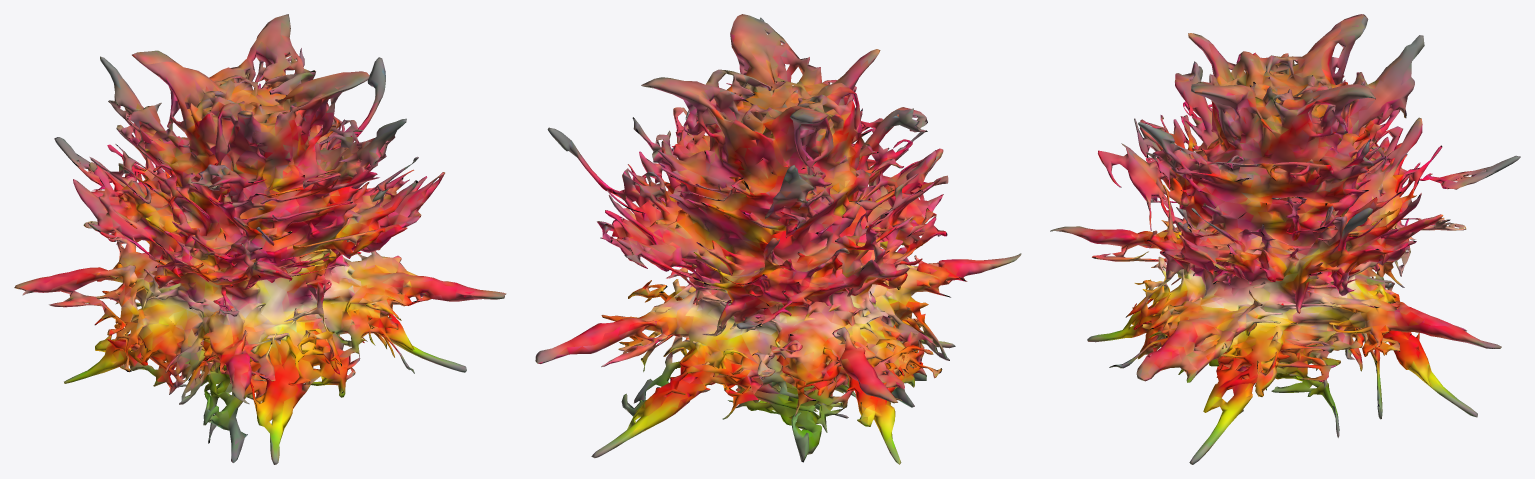
Rendered from fire_flower.glb.
The picture shows the model from 3 angles, left to right: view 1: azimuth 30°, elevation 25°; view 2: azimuth 150°, elevation 25°; view 3: azimuth 270°, elevation 25°; orthographic projection. The views are drawn at different scales.
Visible parts, largest first — view 1: geometry_0; view 2: geometry_0; view 3: geometry_0.
Boxes of the visible parts, x1=… form: geometry_0: x1=14, y1=14, x2=506, y2=464; geometry_0: x1=535, y1=14, x2=1021, y2=464; geometry_0: x1=1050, y1=14, x2=1520, y2=464.
Bounding box in the file's own units: 0.446 × 0.4025 × 0.4886.
1 material, 1 textured.
